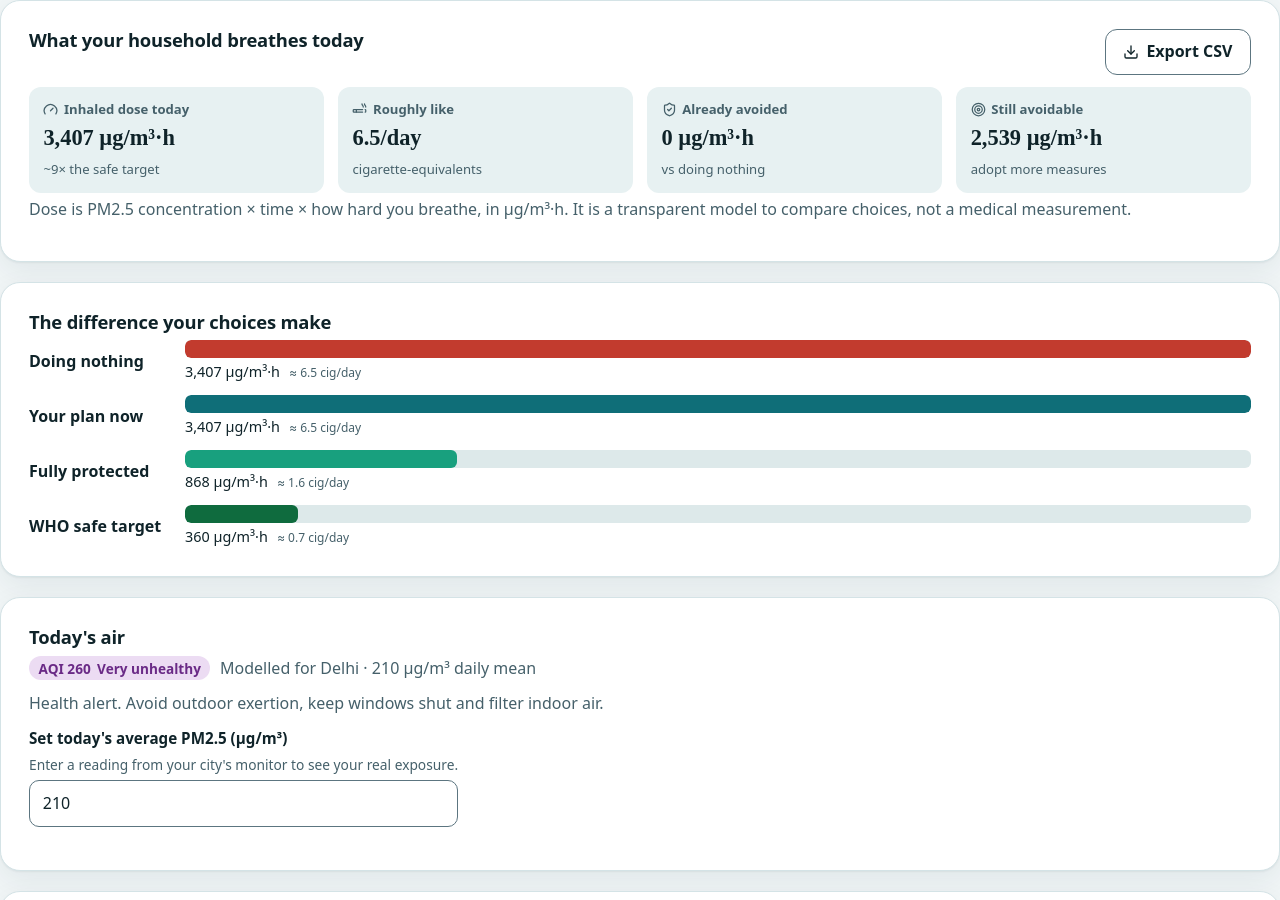
ExposurePanel › ignores a blank PM2.5 value
Clear the number field labelled "Set today's average PM2.5 (µg/m³)": (244, 804) 29,780 -> 458,827
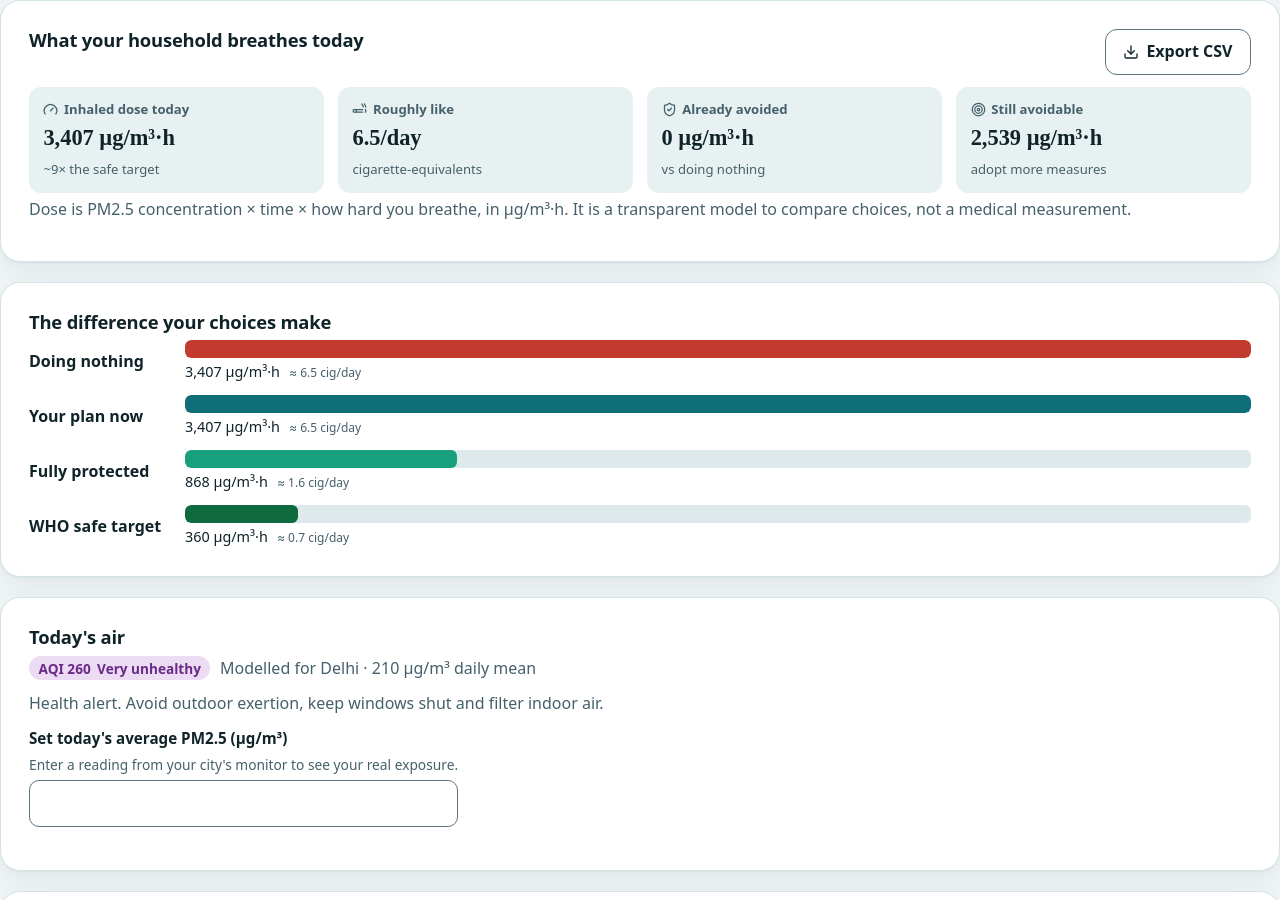
Leave the number field labelled "Set today's average PM2.5 (µg/m³)", box 29,780 -> 458,827
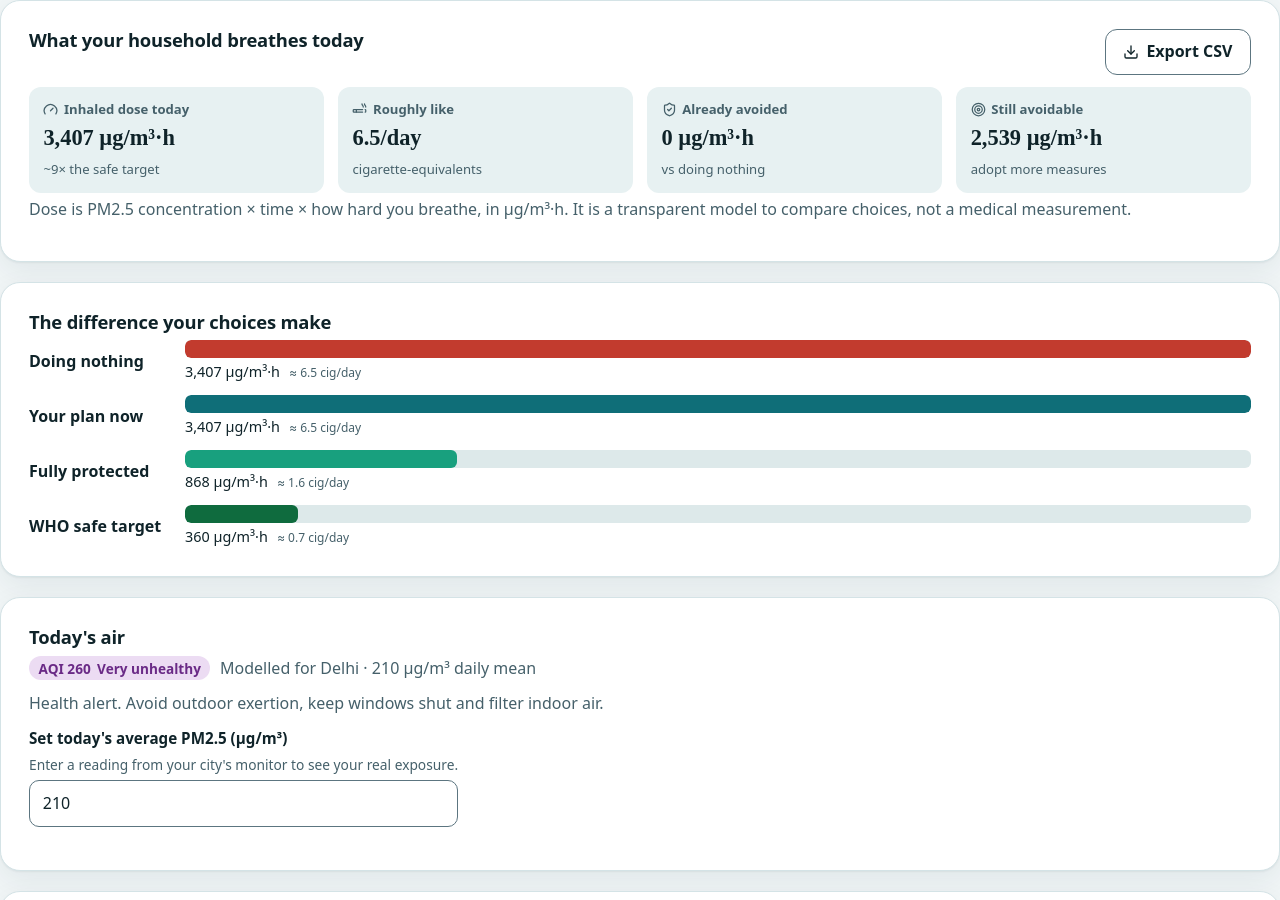
Expected: the number field labelled "Set today's average PM2.5 (µg/m³)" holds "210", 29,780 -> 458,827
